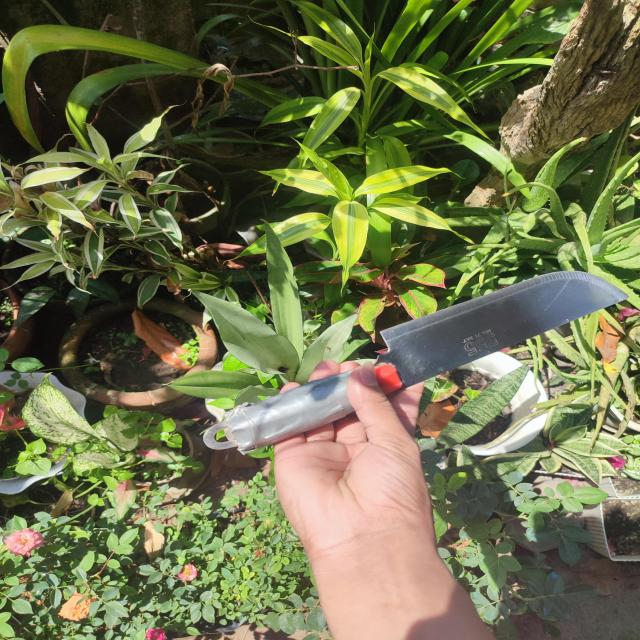knife: (202, 271, 629, 449)
